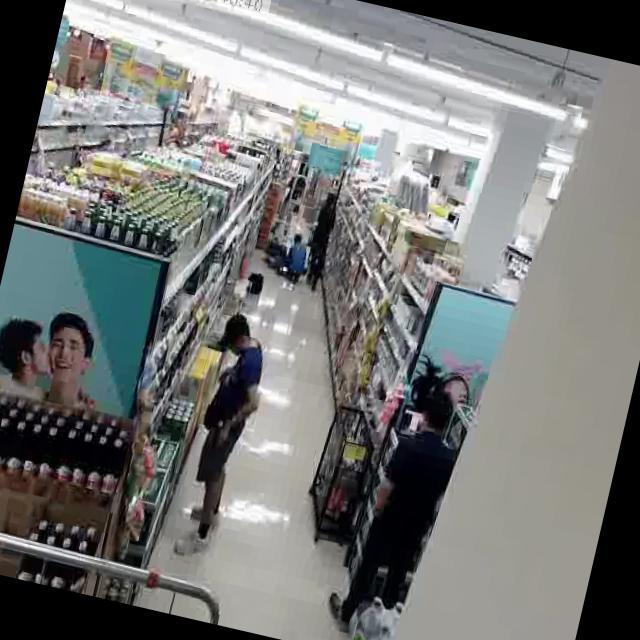shoplifting: (154, 300, 294, 580)
